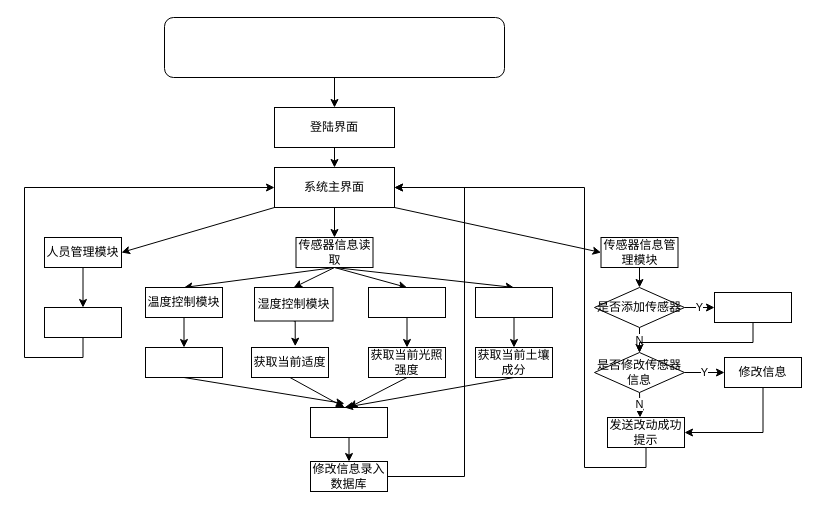
This 819x509 diagram has some shape labels left out. The shapes that lost their labels are listed below. From the top down, each one's box as (x1, y1, x2, y2) in pixels, then its label:
(164, 16, 504, 78): WSN西瓜种植环境控制系统流程图
(44, 306, 122, 338): 肥料购买，施肥信息录入
(368, 286, 446, 318): 光照控制模块
(474, 286, 552, 318): 土壤成分管理模块
(714, 292, 792, 322): 录入传感器信息
(144, 346, 222, 378): 获取当前温度
(310, 406, 388, 438): 根据设定阈值进行调节
